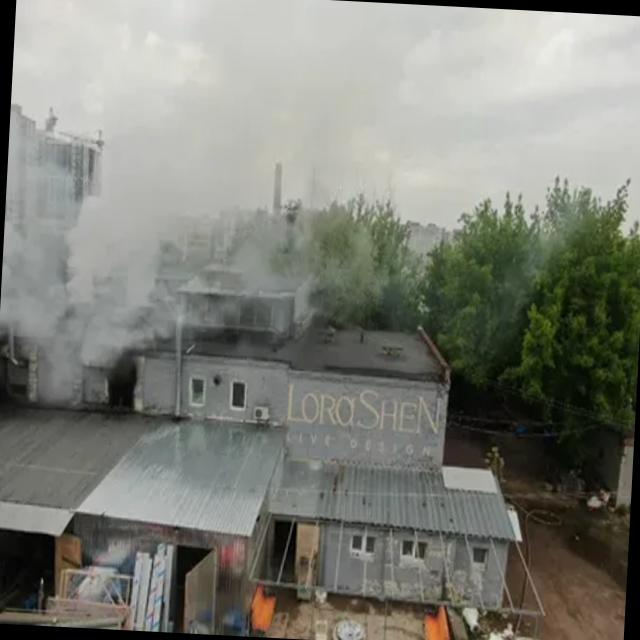Smoke: (0, 0, 219, 379)
